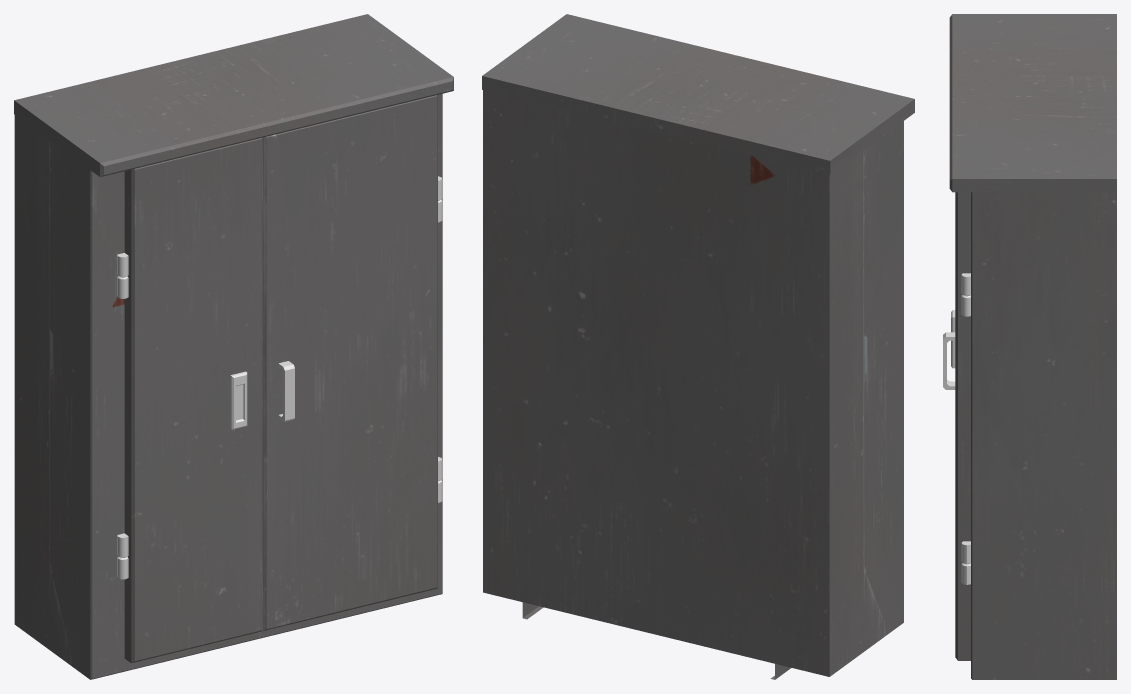
The model's file is KB3D_CBP_FuseBox_I.fbx.
3 views of the same model, side by side, from view 1: azimuth 30°, elevation 25°; view 2: azimuth 150°, elevation 25°; view 3: azimuth 270°, elevation 25° (orthographic). The views are drawn at different scales.
Parts seen in each view (by area): view 1: KB3D_CBP_FuseBox_I_Main; view 2: KB3D_CBP_FuseBox_I_Main; view 3: KB3D_CBP_FuseBox_I_Main.
Part boxes in pixels (x1,y1,x2,y2): KB3D_CBP_FuseBox_I_Main: (14, 14, 453, 679); KB3D_CBP_FuseBox_I_Main: (482, 14, 914, 679); KB3D_CBP_FuseBox_I_Main: (943, 14, 1116, 679).
Size of the model in its own units: 91.33 by 133 by 40.64.
